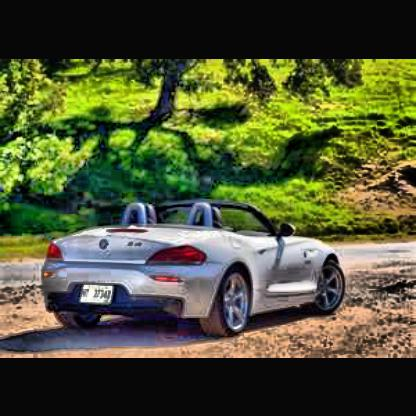BMW Z4 Convertible 2012: (44, 204, 347, 342)
